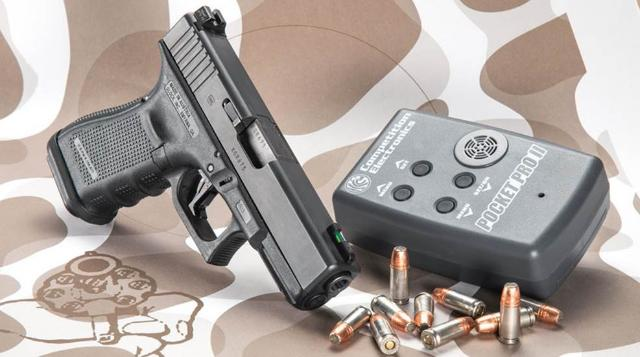handgun: (43, 2, 365, 316)
